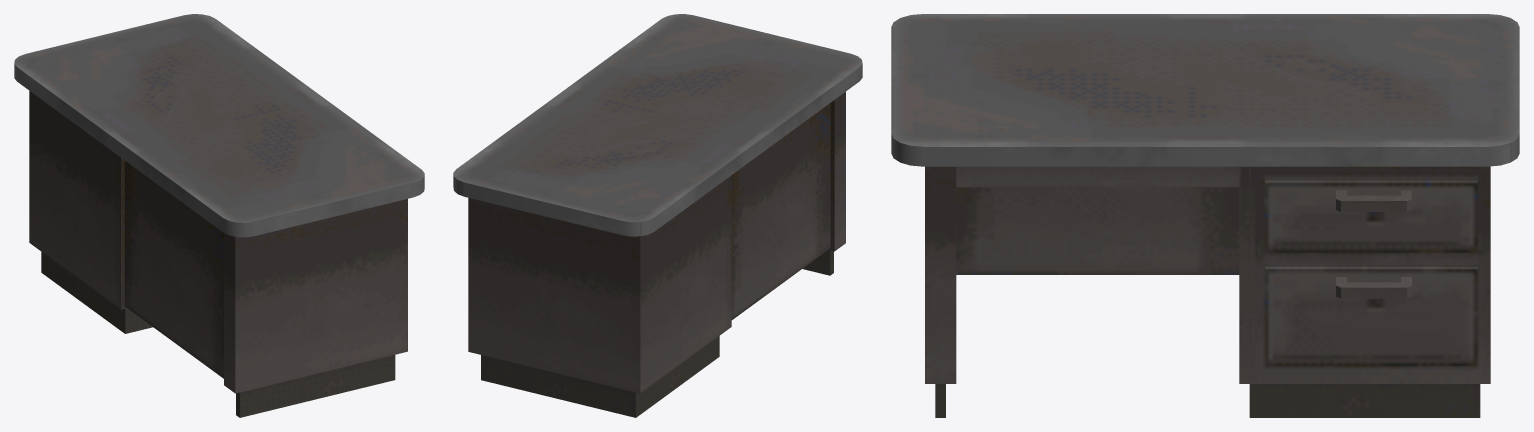
Rendered from desk.fbx.
3 renders of one model, left to right at view 1: azimuth 30°, elevation 25°; view 2: azimuth 150°, elevation 25°; view 3: azimuth 270°, elevation 25°, orthographic. The views are drawn at different scales.
Visible parts, largest first — view 1: Cube, top; view 2: Cube, top; view 3: Cube, top.
Part boxes in pixels (box(x1,y1,x2,y2)): Cube: box(29, 91, 407, 417); top: box(14, 14, 424, 237); Cube: box(468, 92, 845, 417); top: box(453, 14, 862, 236); Cube: box(925, 166, 1490, 417); top: box(891, 14, 1519, 166).
Bounding box in the file's own units: 103 × 100 × 200.
